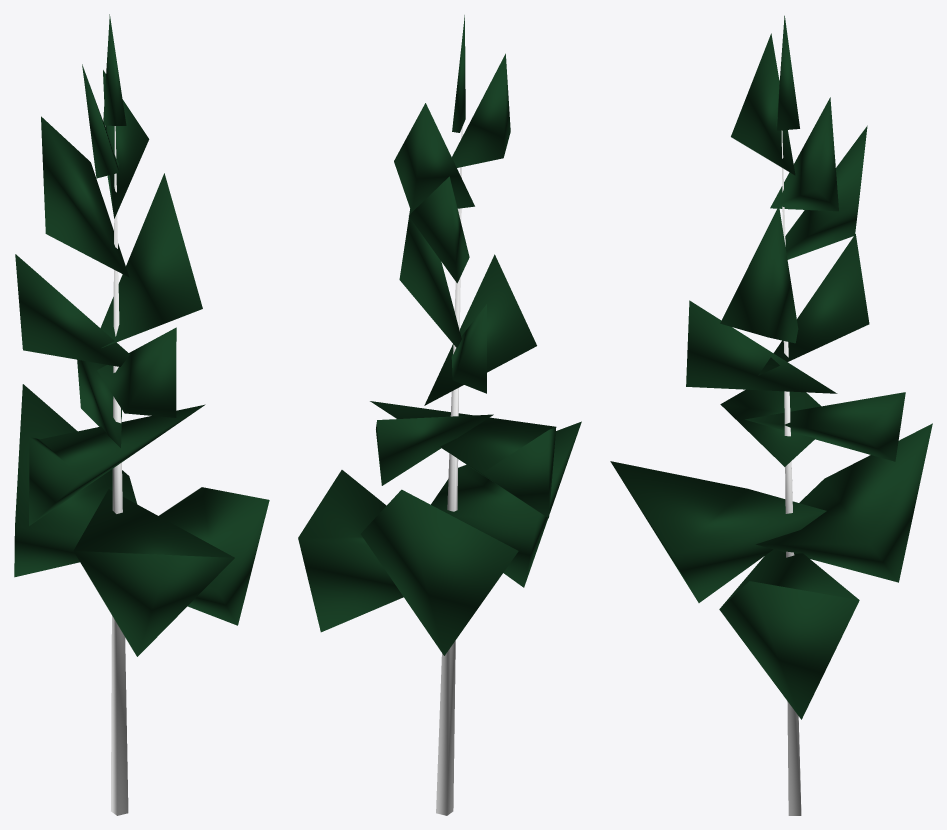
File: pine2_lowest.glb
3 renders of one model, left to right at view 1: azimuth 30°, elevation 25°; view 2: azimuth 150°, elevation 25°; view 3: azimuth 270°, elevation 25°, orthographic.
Parts seen in each view (by area): view 1: Cube; view 2: Cube; view 3: Cube.
Part boxes in pixels (x1,y1,x2,y2): Cube: (14,14,269,815); Cube: (298,15,581,815); Cube: (610,15,932,815).
Bounding box in the file's own units: 6.73 × 23.05 × 8.51.
